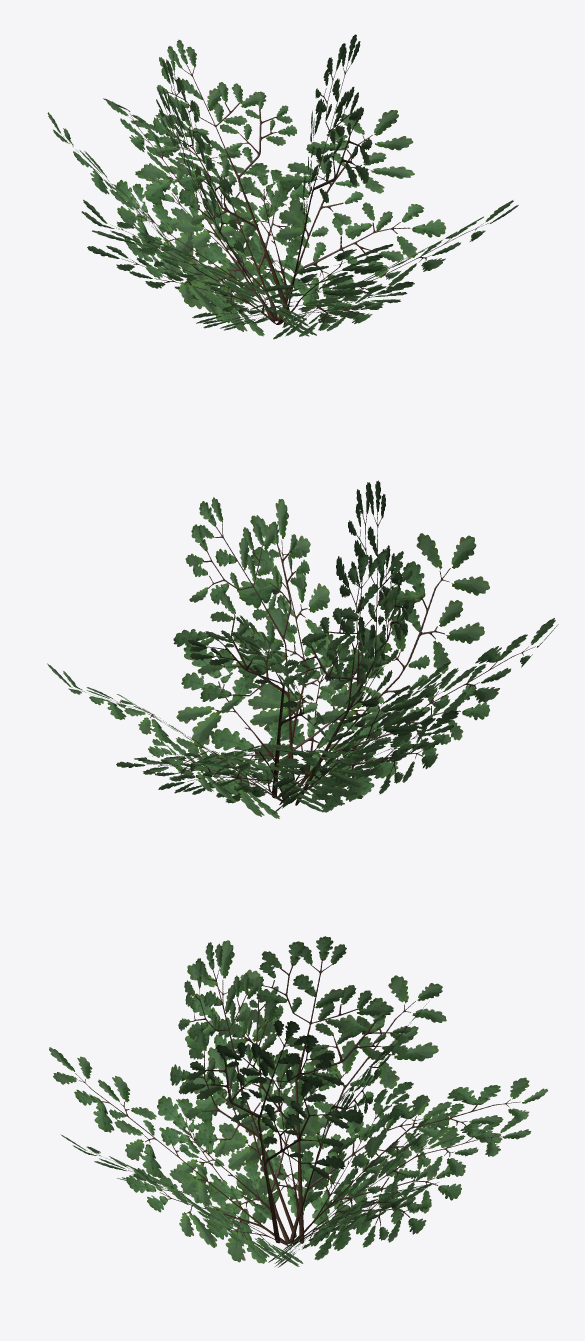
The model's file is Bush_02.obj.
The picture shows the model from 3 angles, top to bottom: view 1: azimuth 30°, elevation 25°; view 2: azimuth 150°, elevation 25°; view 3: azimuth 270°, elevation 25°; orthographic projection. The views are drawn at different scales.
Parts seen in each view (by area): view 1: Plane.335_Plane.363, Plane.331_Plane.359, Plane.338_Plane.366, Plane.334_Plane.362, Plane.329_Plane.357, Plane.330_Plane.358, Plane.339_Plane.367, Plane.333_Plane.361, Plane.337_Plane.365, Plane.332_Plane.360; view 2: Plane.332_Plane.360, Plane.329_Plane.357, Plane.339_Plane.367, Plane.333_Plane.361, Plane.337_Plane.365, Plane.330_Plane.358, Plane.336_Plane.364, Plane.334_Plane.362, Plane.335_Plane.363, Plane.338_Plane.366, Plane.331_Plane.359; view 3: Plane.330_Plane.358, Plane.333_Plane.361, Plane.337_Plane.365, Plane.334_Plane.362, Plane.329_Plane.357, Plane.339_Plane.367, Plane.331_Plane.359, Plane.336_Plane.364, Plane.332_Plane.360, Plane.335_Plane.363, Plane.338_Plane.366.
Boxes of the visible parts, bbox=[...] form: Plane.335_Plane.363: bbox=[226, 110, 446, 321]; Plane.331_Plane.359: bbox=[131, 113, 311, 321]; Plane.338_Plane.366: bbox=[153, 39, 296, 314]; Plane.334_Plane.362: bbox=[103, 98, 276, 323]; Plane.329_Plane.357: bbox=[192, 244, 414, 330]; Plane.330_Plane.358: bbox=[47, 112, 275, 336]; Plane.339_Plane.367: bbox=[283, 34, 372, 324]; Plane.333_Plane.361: bbox=[81, 199, 316, 336]; Plane.337_Plane.365: bbox=[156, 59, 269, 310]; Plane.332_Plane.360: bbox=[273, 200, 518, 339]; Plane.332_Plane.360: bbox=[176, 499, 384, 798]; Plane.329_Plane.357: bbox=[254, 533, 490, 795]; Plane.339_Plane.367: bbox=[173, 497, 309, 791]; Plane.333_Plane.361: bbox=[290, 618, 558, 812]; Plane.337_Plane.365: bbox=[279, 551, 414, 804]; Plane.330_Plane.358: bbox=[271, 685, 458, 814]; Plane.336_Plane.364: bbox=[295, 480, 408, 805]; Plane.334_Plane.362: bbox=[158, 744, 365, 805]; Plane.335_Plane.363: bbox=[47, 663, 283, 818]; Plane.338_Plane.366: bbox=[187, 615, 325, 798]; Plane.331_Plane.359: bbox=[116, 750, 327, 811]; Plane.330_Plane.358: bbox=[241, 975, 449, 1243]; Plane.333_Plane.361: bbox=[157, 940, 341, 1244]; Plane.337_Plane.365: bbox=[216, 936, 411, 1243]; Plane.334_Plane.362: bbox=[294, 1077, 547, 1249]; Plane.329_Plane.357: bbox=[49, 1047, 287, 1263]; Plane.339_Plane.367: bbox=[181, 1020, 362, 1243]; Plane.331_Plane.359: bbox=[293, 1112, 531, 1260]; Plane.336_Plane.364: bbox=[170, 942, 296, 1237]; Plane.332_Plane.360: bbox=[60, 1134, 303, 1266]; Plane.335_Plane.363: bbox=[268, 1182, 438, 1267]; Plane.338_Plane.366: bbox=[290, 1002, 428, 1249].
Bounding box in the file's own units: 1.6 × 1.04 × 1.61.
1 material, 1 textured.
